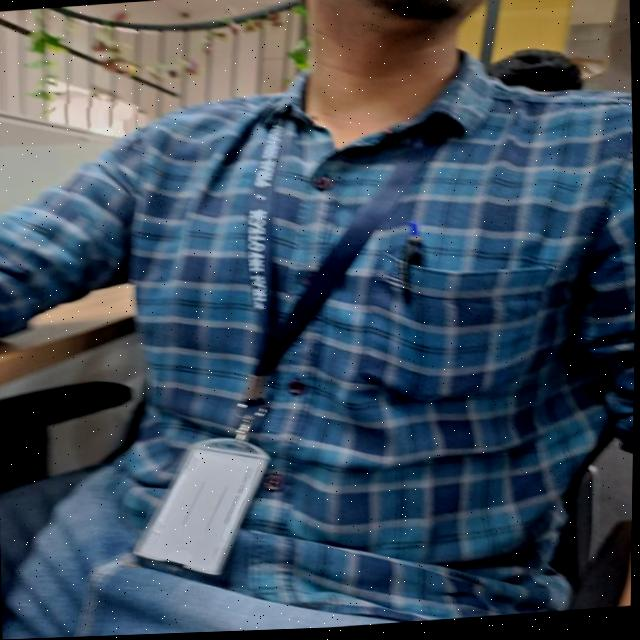id_card: (112, 82, 492, 596)
